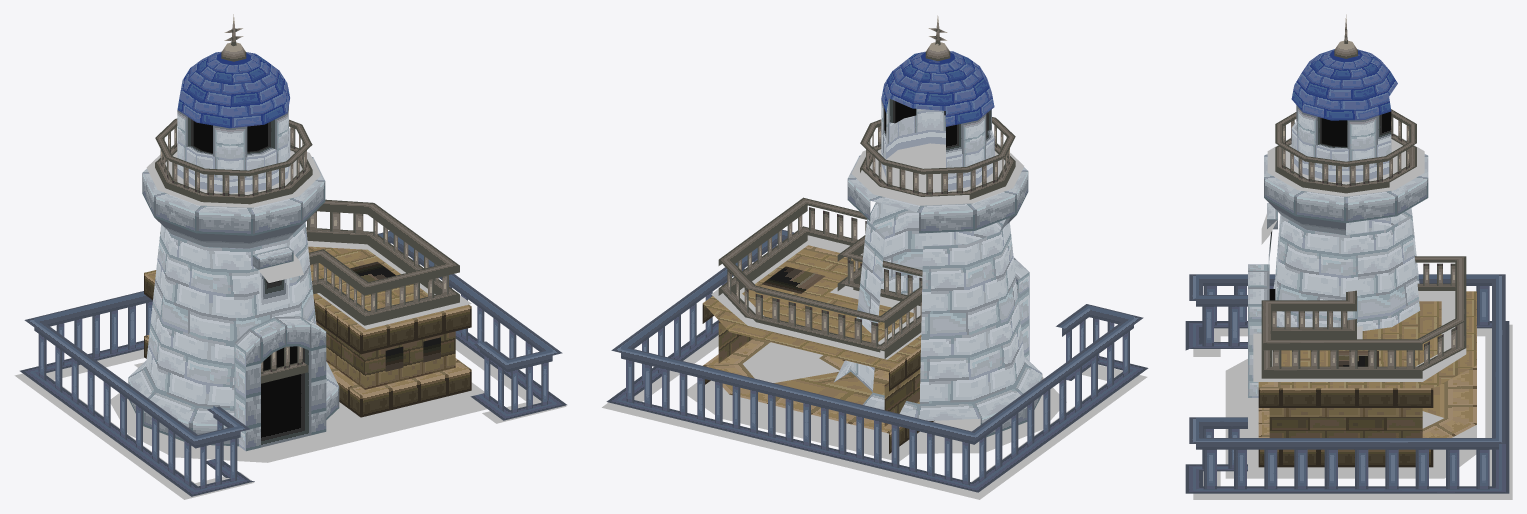
The model's file is d12_tower_01.dae.
The picture shows the model from 3 angles, left to right: view 1: azimuth 30°, elevation 25°; view 2: azimuth 150°, elevation 25°; view 3: azimuth 270°, elevation 25°; orthographic projection. The views are drawn at different scales.
Parts seen in each view (by area): view 1: d12_tower_01; view 2: d12_tower_01; view 3: d12_tower_01.
Boxes of the visible parts, x1,y1,x2,y2 form: d12_tower_01: (14,14,566,499); d12_tower_01: (602,15,1148,499); d12_tower_01: (1185,14,1512,499).
Bounding box in the file's own units: 152 × 150 × 121.
